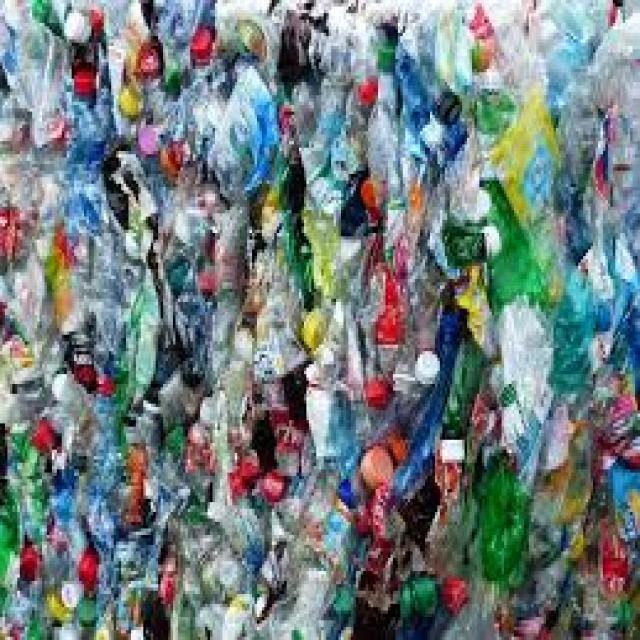heap: (80, 37, 633, 608)
